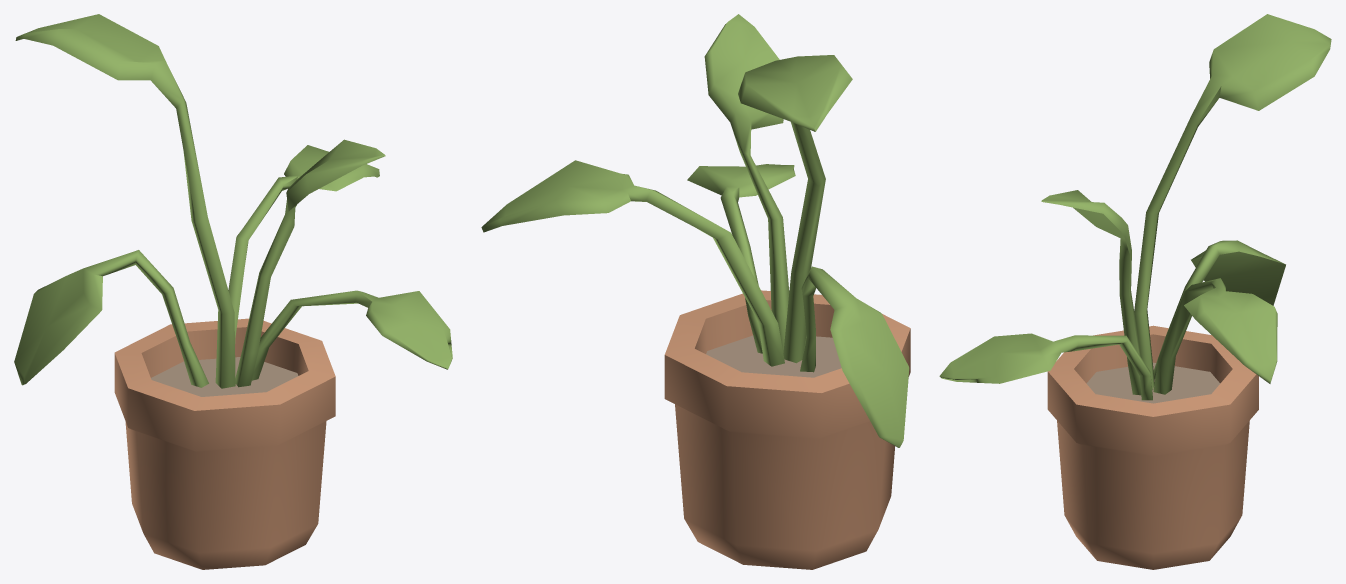
The model's file is SM_Prop_Plant_15.obj.
3 renders of one model, left to right at view 1: azimuth 30°, elevation 25°; view 2: azimuth 150°, elevation 25°; view 3: azimuth 270°, elevation 25°, orthographic. The views are drawn at different scales.
Visible parts, largest first — view 1: SM_Prop_Plant_15_Mat_SwatchOverlay_PolygonTown_01_Inst; view 2: SM_Prop_Plant_15_Mat_SwatchOverlay_PolygonTown_01_Inst; view 3: SM_Prop_Plant_15_Mat_SwatchOverlay_PolygonTown_01_Inst.
Part boxes in pixels (bbox=[...]): SM_Prop_Plant_15_Mat_SwatchOverlay_PolygonTown_01_Inst: bbox=[14, 14, 452, 569]; SM_Prop_Plant_15_Mat_SwatchOverlay_PolygonTown_01_Inst: bbox=[481, 14, 910, 569]; SM_Prop_Plant_15_Mat_SwatchOverlay_PolygonTown_01_Inst: bbox=[939, 14, 1331, 569].
Bounding box in the file's own units: 0.4294 × 0.5476 × 0.4123.
Materials: 1 (1 with a texture image).
